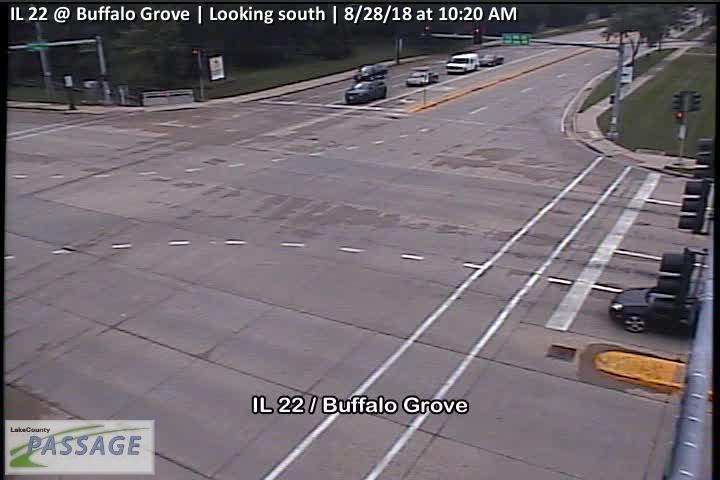SUV: (345, 79, 388, 104), (445, 52, 479, 73)
Sedan: (609, 287, 705, 332), (353, 64, 389, 81), (406, 70, 439, 86), (480, 53, 505, 66)
